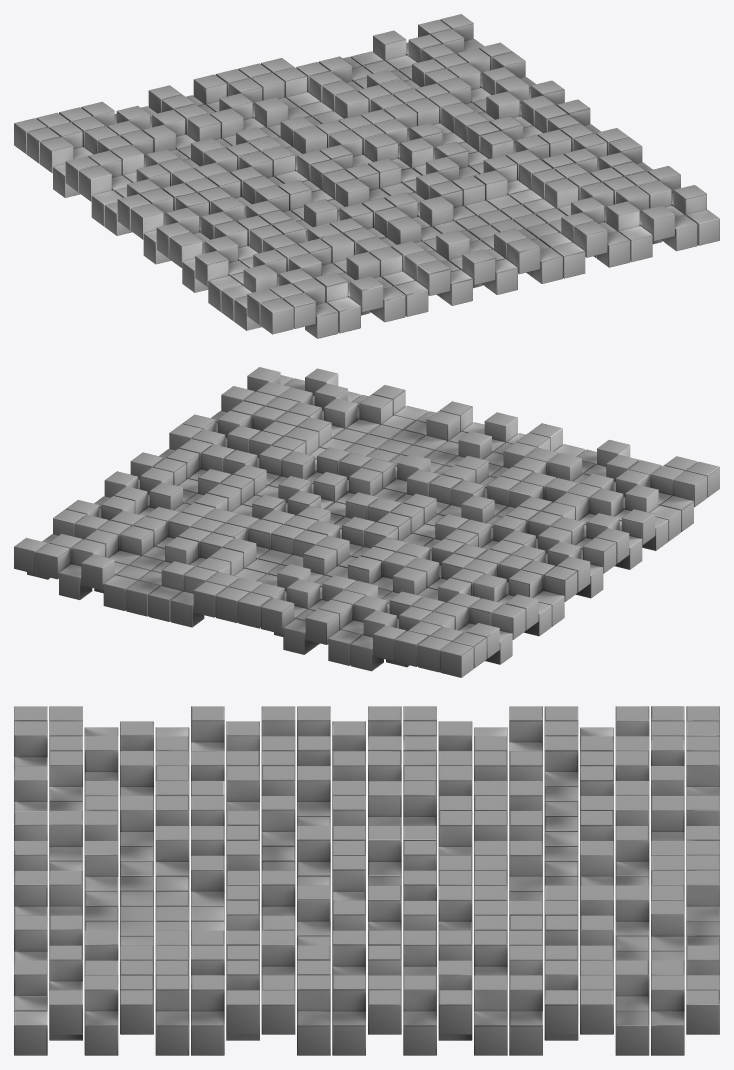
The model's file is intro_2.gltf.
3 views of the same model, one above another, from view 1: azimuth 30°, elevation 25°; view 2: azimuth 150°, elevation 25°; view 3: azimuth 270°, elevation 25° (orthographic). The views are drawn at different scales.
Visible parts, largest first — view 1: Cube, Cube.004, Cube.009, Cube.014, Cube.017, Cube.011, Cube.007, Cube.100, Cube.280, Cube.200, Cube.140, Cube.340 (+110 smaller); view 2: Cube.380, Cube.386, Cube.396, Cube.398, Cube.388, Cube.220, Cube.020, Cube.300, Cube.100, Cube.160, Cube.336, Cube.034 (+138 smaller); view 3: Cube.059, Cube.099, Cube.359, Cube.159, Cube.259, Cube.319, Cube.019, Cube.039, Cube.079, Cube.119, Cube.139, Cube.179 (+138 smaller).
Part boxes in pixels (box(x1,y1,x2,y2)): Cube: box(260, 298, 293, 334); Cube.004: box(350, 276, 383, 312); Cube.009: box(462, 249, 495, 285); Cube.014: box(574, 221, 607, 257); Cube.017: box(641, 205, 674, 241); Cube.011: box(507, 238, 540, 274); Cube.007: box(417, 260, 450, 295); Cube.100: box(195, 251, 228, 286); Cube.280: box(78, 165, 111, 201); Cube.200: box(130, 203, 163, 239); Cube.140: box(169, 232, 202, 267); Cube.340: box(40, 137, 73, 173); Cube.380: box(440, 642, 473, 677); Cube.386: box(305, 609, 338, 644); Cube.396: box(81, 554, 114, 590); Cube.398: box(36, 543, 69, 579); Cube.388: box(261, 598, 294, 633); Cube.220: box(544, 566, 577, 601); Cube.020: box(673, 471, 706, 507); Cube.300: box(492, 604, 525, 639); Cube.100: box(622, 509, 655, 544); Cube.160: box(583, 537, 616, 573); Cube.336: box(120, 525, 153, 556); Cube.034: box(359, 394, 392, 425); Cube.059: box(84, 1011, 118, 1055); Cube.099: box(155, 1011, 189, 1055); Cube.359: box(615, 1011, 649, 1055); Cube.159: box(261, 990, 295, 1034); Cube.259: box(438, 990, 472, 1034); Cube.319: box(544, 990, 578, 1034); Cube.019: box(14, 1011, 47, 1055); Cube.039: box(49, 990, 82, 1034); Cube.079: box(120, 990, 153, 1034); Cube.119: box(191, 1011, 224, 1055); Cube.139: box(226, 990, 259, 1034); Cube.179: box(297, 1011, 330, 1055).
Bounding box in the file's own units: 2.1 × 0.1692 × 2.1.
1 material, 1 textured.
